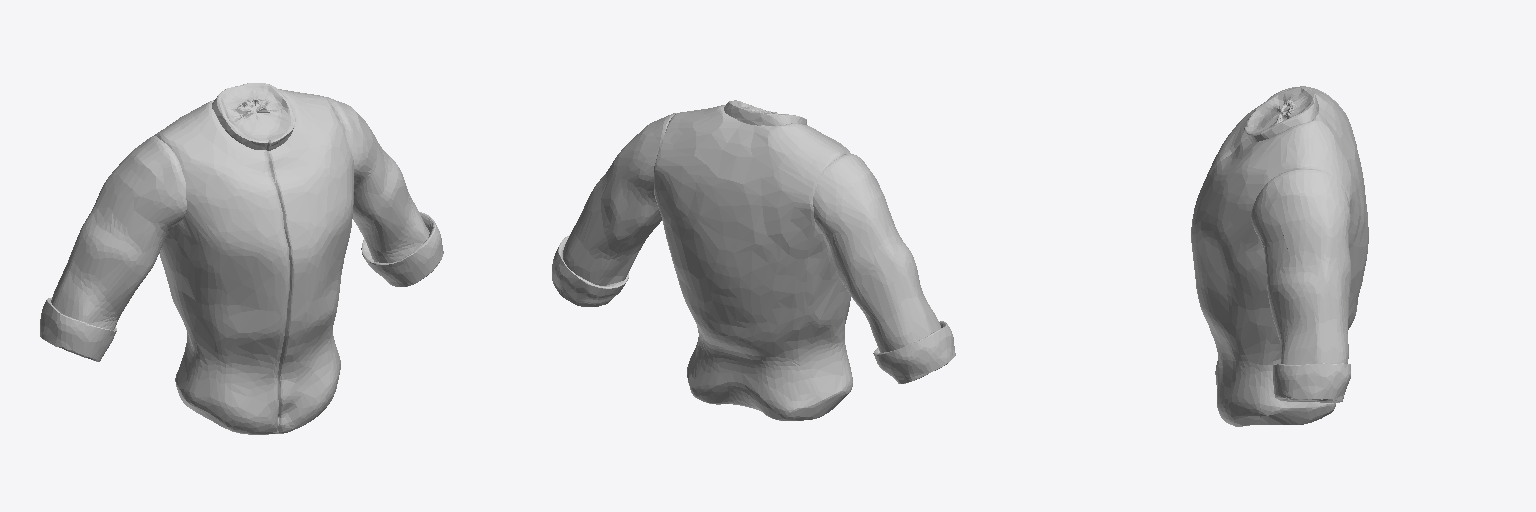
The model's file is Thug02_shirt.OBJ.
3 views of the same model, side by side, from view 1: azimuth 30°, elevation 25°; view 2: azimuth 150°, elevation 25°; view 3: azimuth 270°, elevation 25° (orthographic).
Visible parts, largest first — view 1: Group65436; view 2: Group65436; view 3: Group65436.
Boxes of the visible parts, x1,y1,x2,y2 form: Group65436: [40, 83, 443, 434]; Group65436: [552, 100, 955, 420]; Group65436: [1191, 86, 1368, 426].
Bounding box in the file's own units: 9.01 × 6.91 × 3.52.